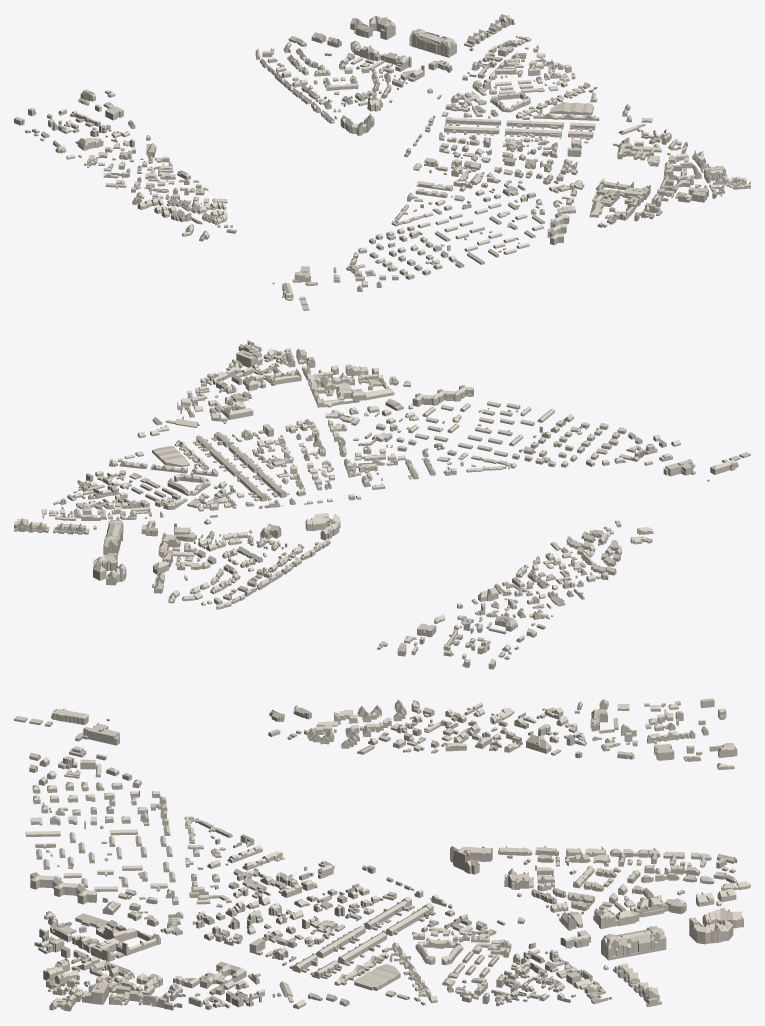
3 renders of one model, top to bottom at view 1: azimuth 30°, elevation 25°; view 2: azimuth 150°, elevation 25°; view 3: azimuth 270°, elevation 25°, orthographic. The views are drawn at different scales.
Size of the model in its own units: 917 by 29.98 by 918.
